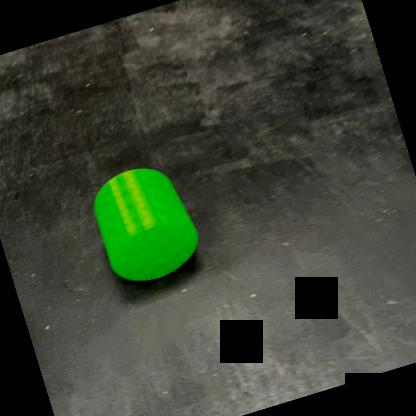green cylinder: (80, 151, 211, 296)
